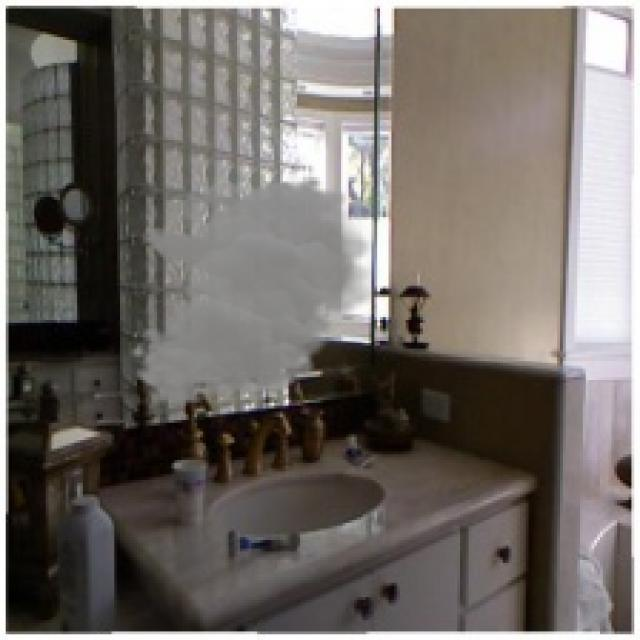Smoke: (128, 174, 383, 406)
